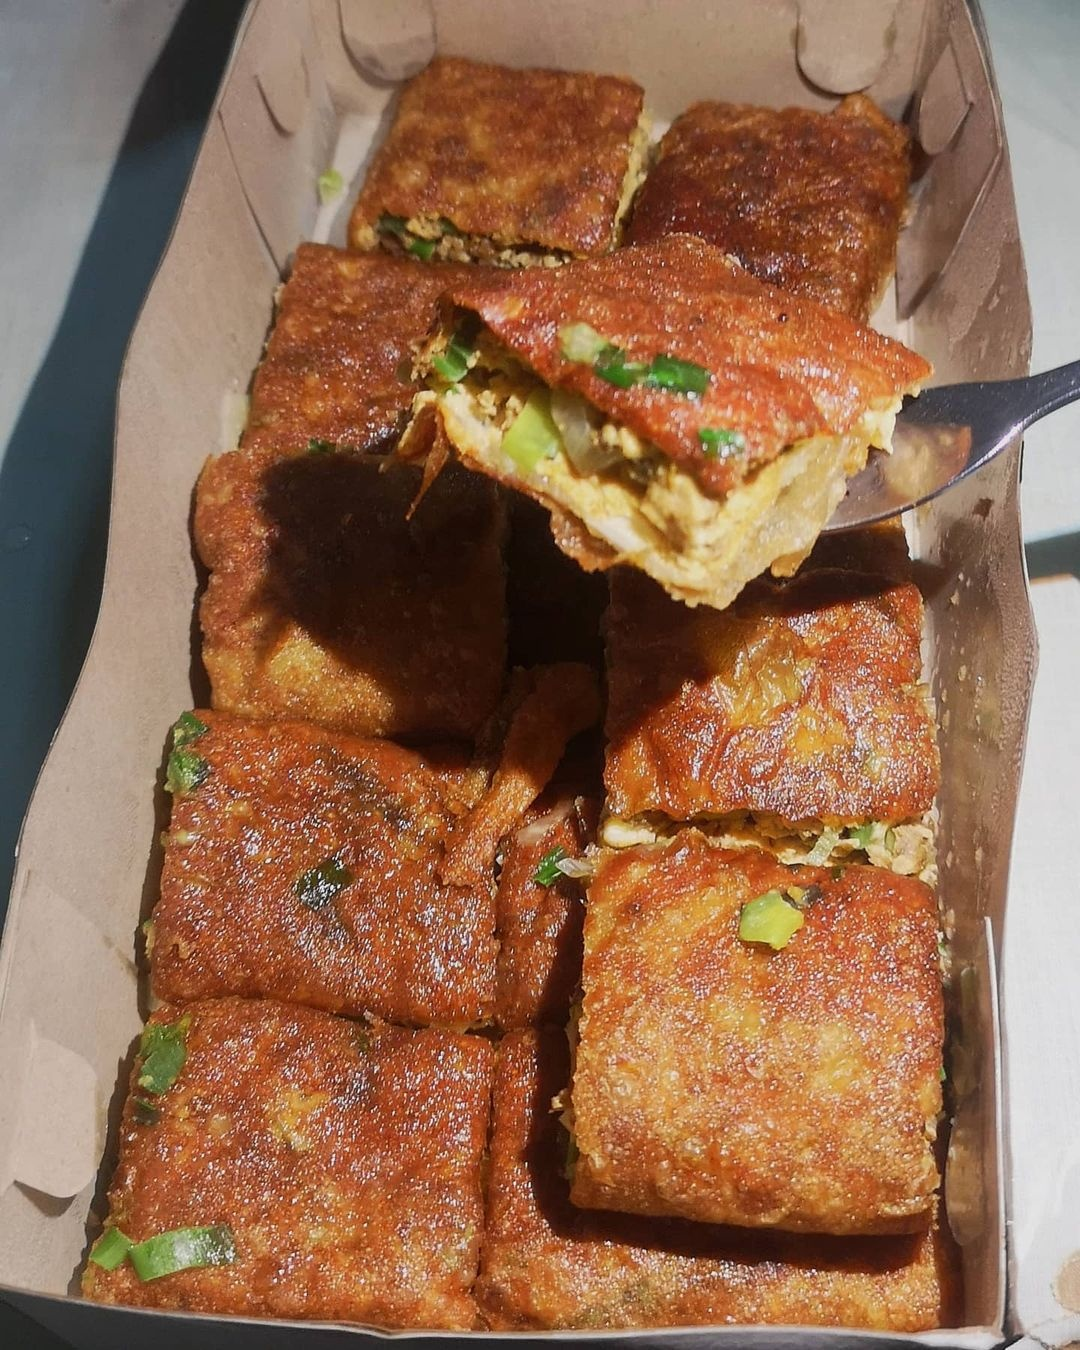martabak: (74, 52, 965, 1328)
